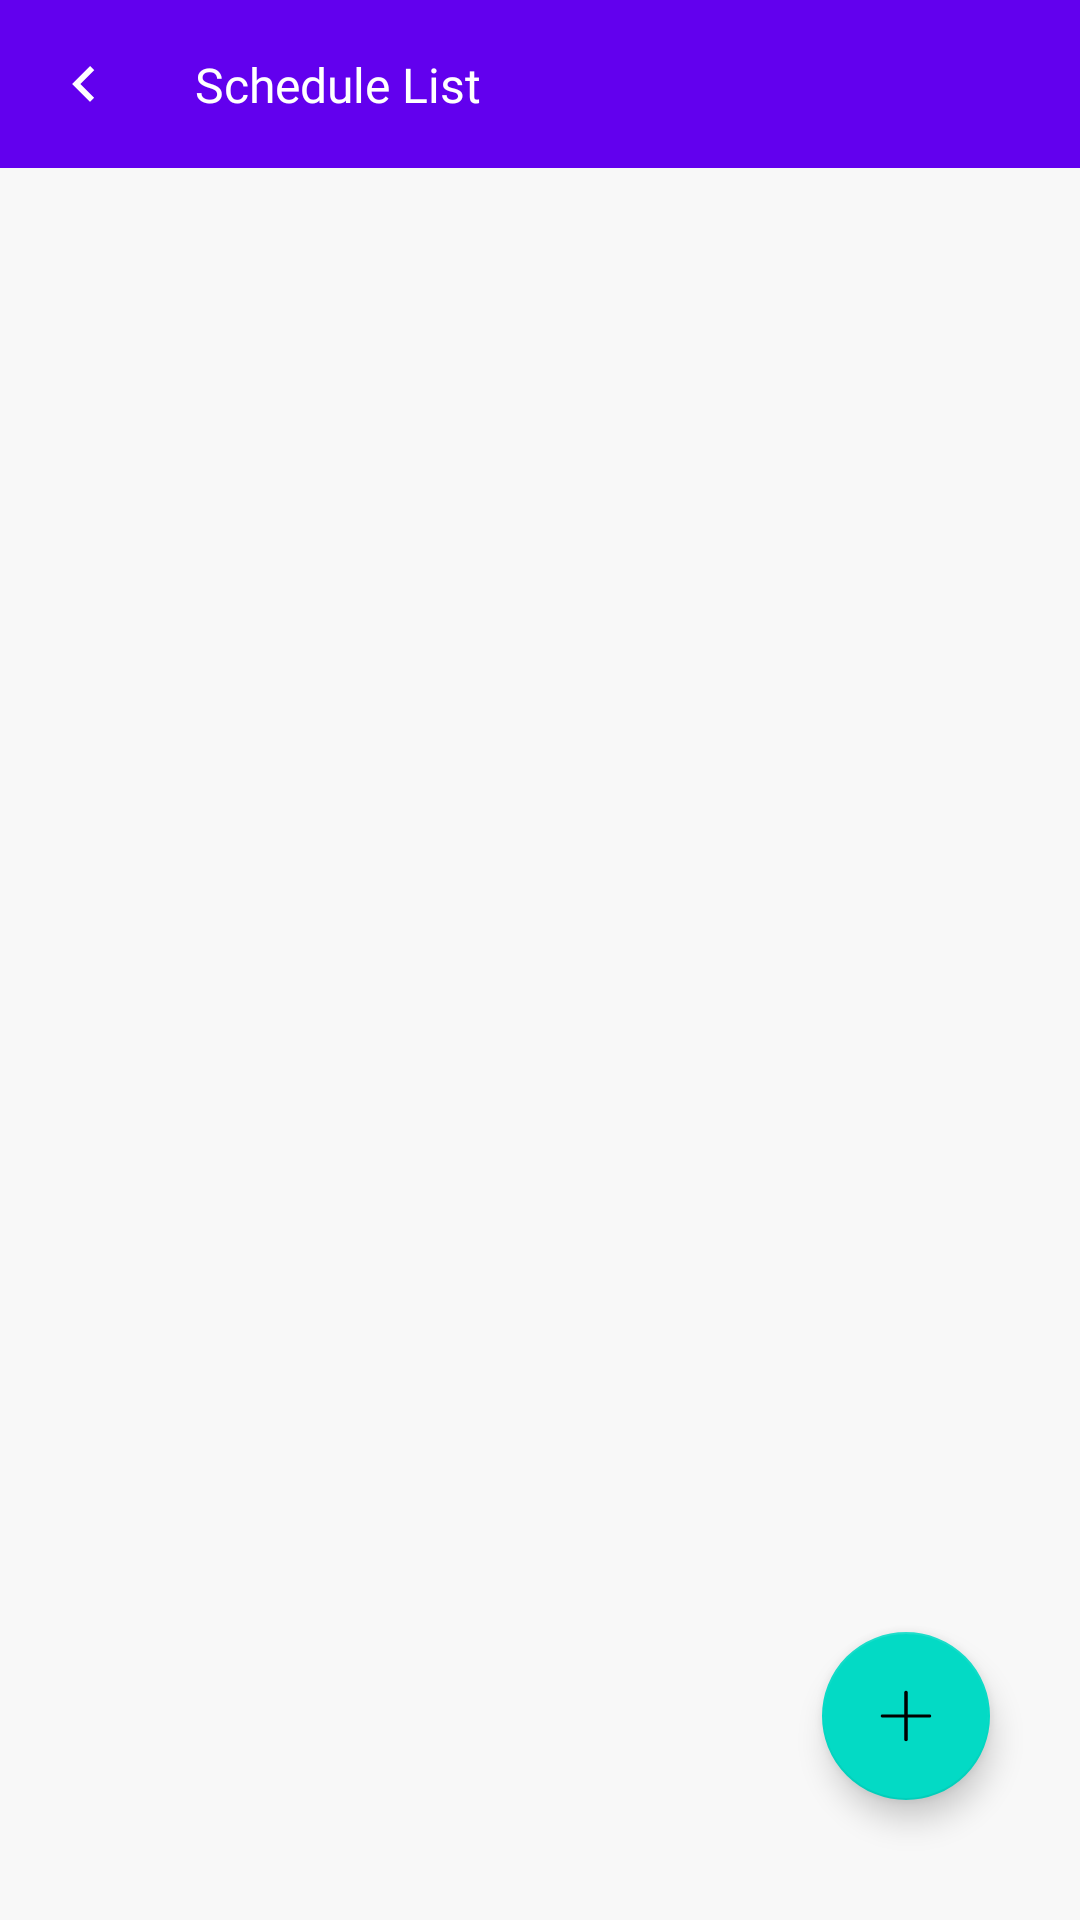

Where to tap for icons on this 1080 × 1920 app screen, as [x,y]:
add schedule: [906,1716]
arrow left: [83,84]
